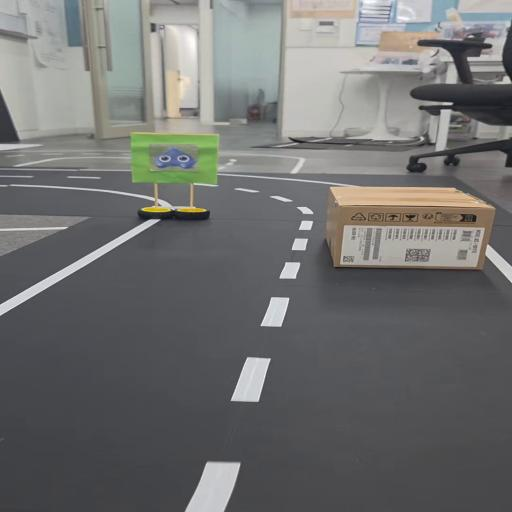Box: (310, 180, 504, 272)
Sign_B: (117, 128, 222, 220)
